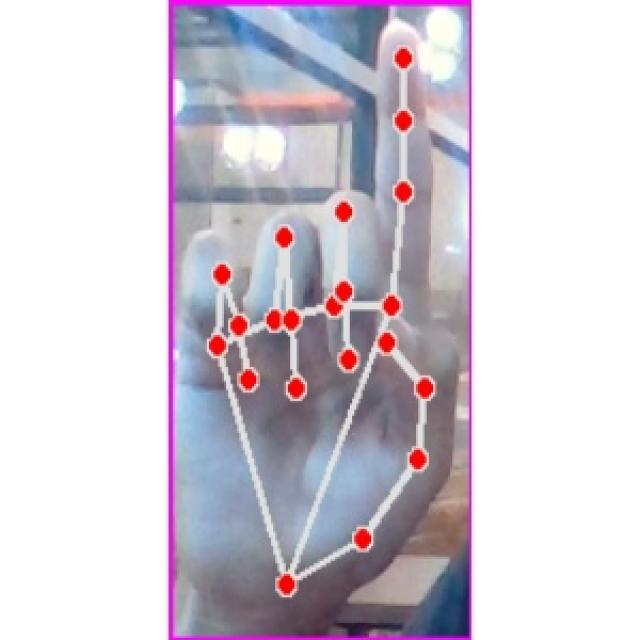D: (181, 13, 458, 614)
